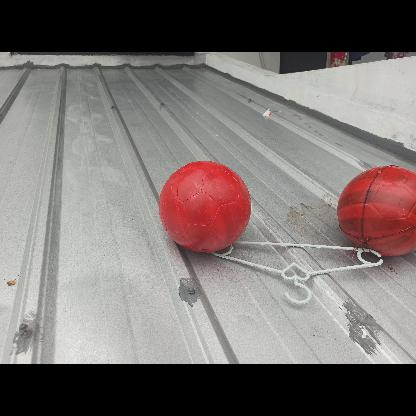red_ball: (156, 160, 250, 254), (338, 163, 416, 261)
